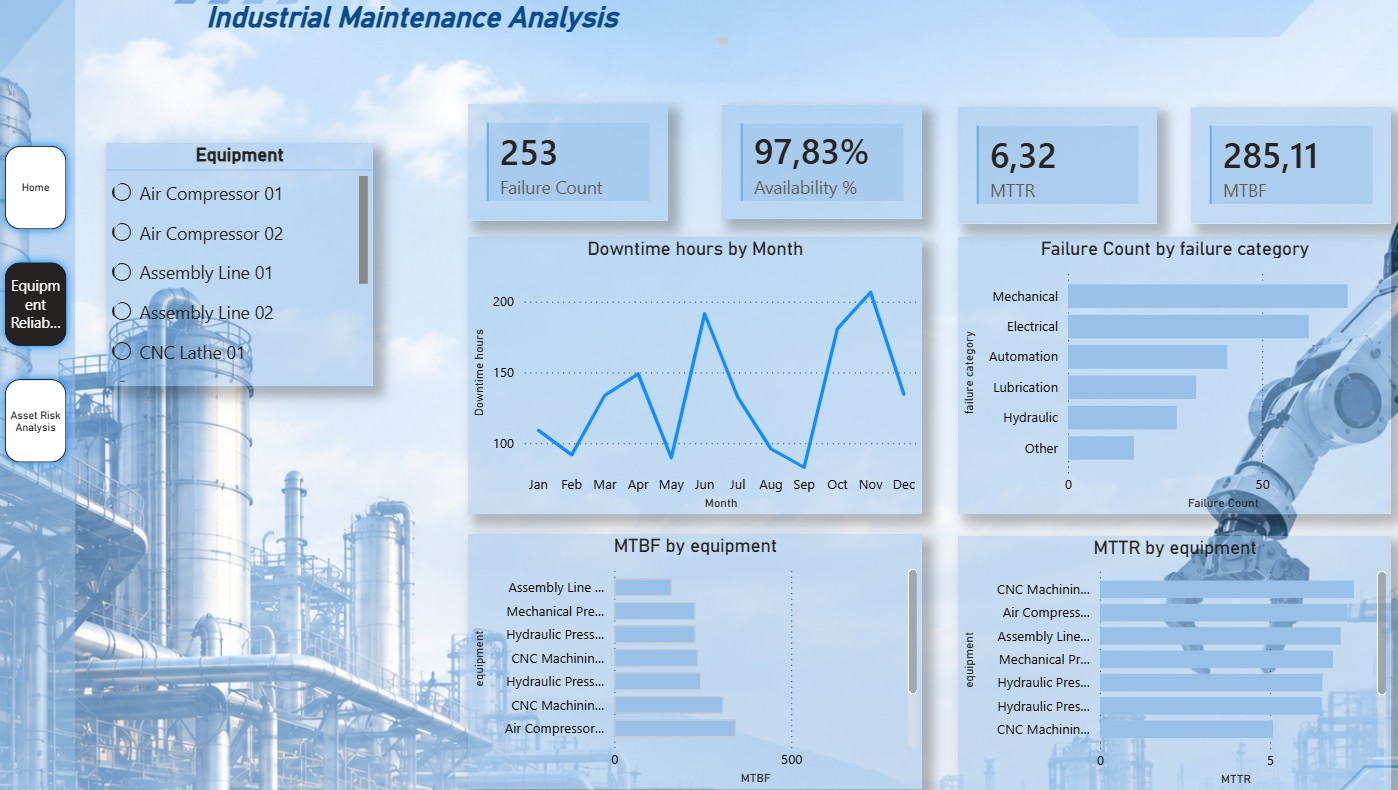

This screenshot's page, from the dashboard's own definition file:
{"tool":"powerbi","page":{"name":"Equipment Reliability","canvas":[1280,720],"ordinal":1},"visuals":[{"type":"cardVisual","fields":{"Data":["maintenance_orders.Failure Count"]},"box":[428.9,95.6,182.2,105.6],"z":0},{"type":"cardVisual","fields":{"Data":["maintenance_orders.MTBF"]},"box":[1086.7,97.8,182.2,105.6],"z":1000},{"type":"cardVisual","fields":{"Data":["maintenance_orders.MTTR"]},"box":[874.4,97.8,181.1,105.6],"z":2000},{"type":"cardVisual","fields":{"Data":["maintenance_orders.Availability %"]},"box":[660,96.7,182.2,104.4],"z":3000},{"type":"lineChart","fields":{"Y":["Sum(operating_history.downtime_hours)"],"Category":["operating_history.Month Name"]},"box":[428.9,216.7,413.3,252.2],"z":4000},{"type":"barChart","fields":{"Category":["maintenance_orders.failure_category"],"Y":["maintenance_orders.Failure Count"]},"box":[874.4,216.7,394.4,252.2],"z":5000},{"type":"barChart","fields":{"Category":["equipment_master.equipment_name"],"Y":["maintenance_orders.MTBF"]},"box":[428.9,486.7,413.3,232.2],"z":6000},{"type":"barChart","fields":{"Category":["equipment_master.equipment_name"],"Y":["maintenance_orders.MTTR"]},"box":[874.4,487.8,394.4,231.1],"z":7000},{"type":"shape","box":[0,0,72.2,718.9],"z":8000},{"type":"pageNavigator","box":[0,125.6,72.2,305.6],"z":9000},{"type":"textbox","title":"Industrial Maintenance Analysis","box":[186.7,0,484.4,45.6],"z":10000},{"type":"listSlicer","fields":{"Values":["equipment_master.equipment_name"]},"box":[100,131.1,243.3,221.1],"z":11000}]}

Visuals, with their boxes in screenshot pixels (x1, y1, x2, y2), scaled from the page's 1280x720 canvas onto the 1398x790 screenshot:
cardVisual - maintenance_orders.Failure Count: 468/105/667/221
cardVisual - maintenance_orders.MTBF: 1187/107/1386/223
cardVisual - maintenance_orders.MTTR: 955/107/1153/223
cardVisual - maintenance_orders.Availability %: 721/106/920/221
lineChart - Sum(operating_history.downtime_hours) x operating_history.Month Name: 468/238/920/514
barChart - maintenance_orders.failure_category x maintenance_orders.Failure Count: 955/238/1386/514
barChart - equipment_master.equipment_name x maintenance_orders.MTBF: 468/534/920/789
barChart - equipment_master.equipment_name x maintenance_orders.MTTR: 955/535/1386/789
shape: 0/0/79/789
pageNavigator: 0/138/79/473
"Industrial Maintenance Analysis" textbox: 204/0/733/50
listSlicer - equipment_master.equipment_name: 109/144/375/386
